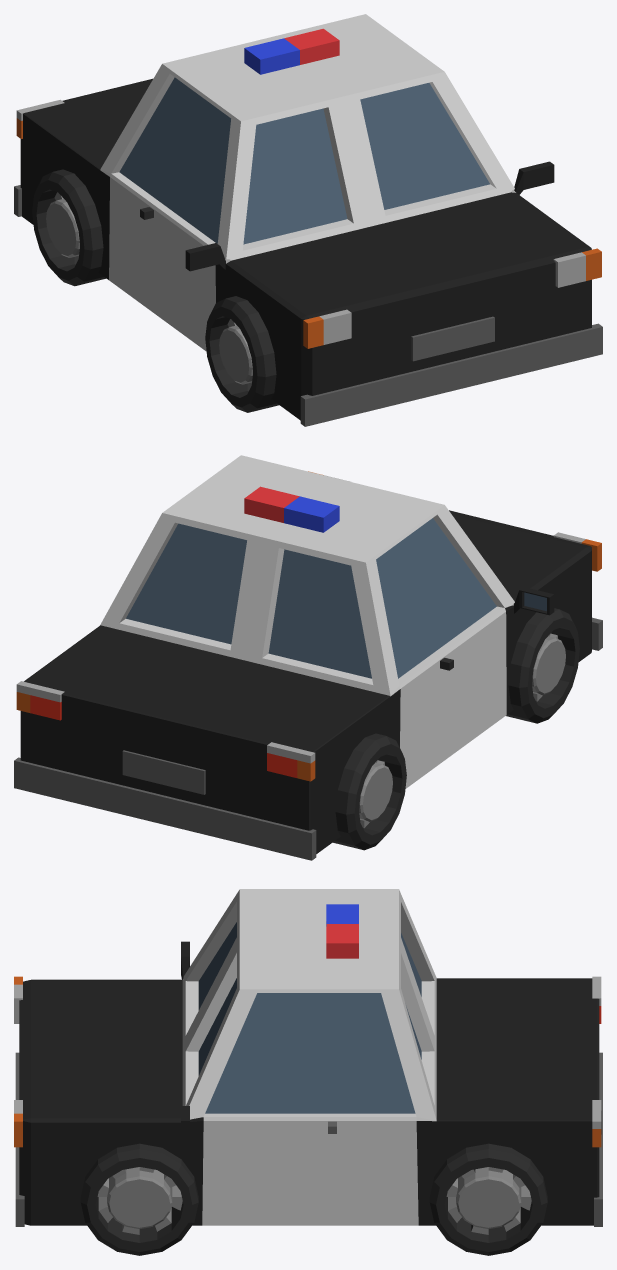
File: PoliceCar.fbx
3 views of the same model, one above another, from view 1: azimuth 30°, elevation 25°; view 2: azimuth 150°, elevation 25°; view 3: azimuth 270°, elevation 25° (orthographic).
Visible parts, largest first — view 1: Police; view 2: Police; view 3: Police.
Boxes of the visible parts, x1,y1,x2,y2 form: Police: (14, 14, 602, 426); Police: (14, 455, 602, 860); Police: (14, 889, 602, 1255).
Size of the model in its own units: 216 by 143 by 299.
